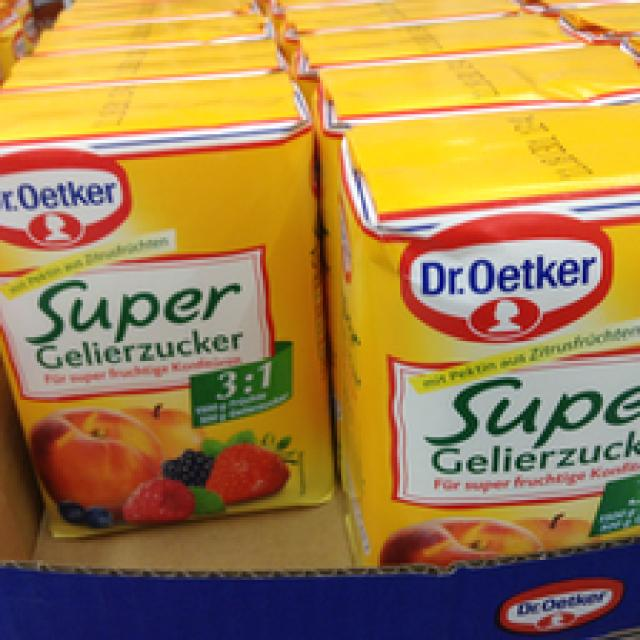groceries: (0, 68, 331, 542), (312, 100, 637, 563)
